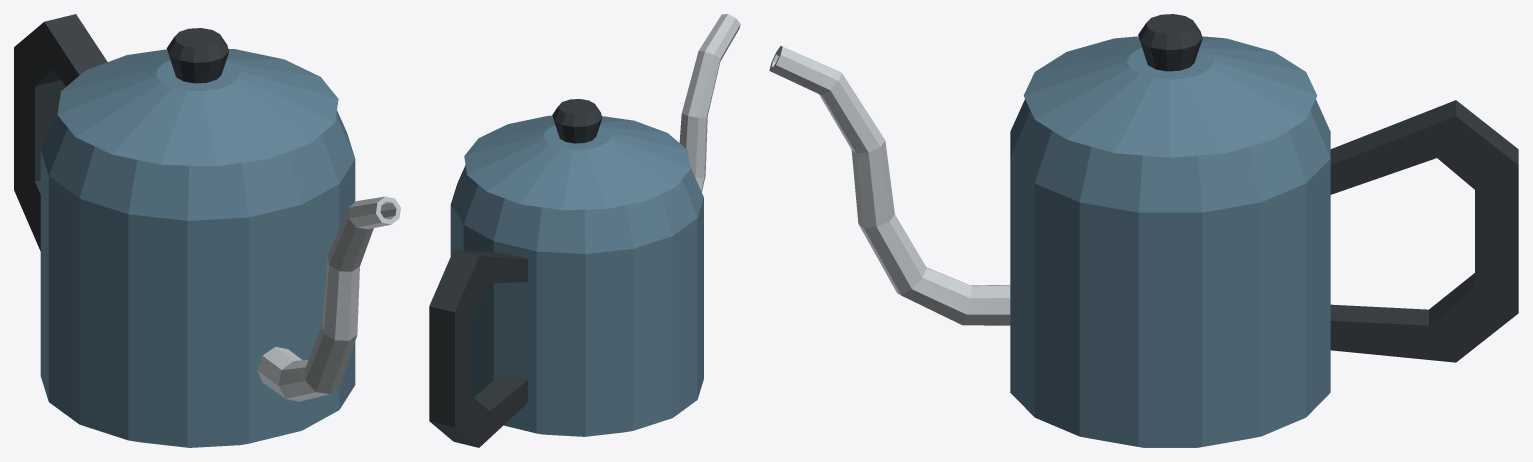
The picture shows the model from 3 angles, left to right: view 1: azimuth 30°, elevation 25°; view 2: azimuth 150°, elevation 25°; view 3: azimuth 270°, elevation 25°; orthographic projection. The views are drawn at different scales.
Visible parts, largest first — view 1: HollowKettleBodyWithTrueSidePort, FixedConicalKettleLid, ContinuousOpenEndedRisingGooseneckSpout, RearOpenCHandleWithTwoFullWallSeats, SmallFacetedLidKnob; view 2: HollowKettleBodyWithTrueSidePort, FixedConicalKettleLid, RearOpenCHandleWithTwoFullWallSeats, ContinuousOpenEndedRisingGooseneckSpout, SmallFacetedLidKnob; view 3: HollowKettleBodyWithTrueSidePort, FixedConicalKettleLid, RearOpenCHandleWithTwoFullWallSeats, ContinuousOpenEndedRisingGooseneckSpout, SmallFacetedLidKnob.
Boxes of the visible parts, bbox=[...] form: HollowKettleBodyWithTrueSidePort: bbox=[40, 110, 355, 447]; FixedConicalKettleLid: bbox=[57, 49, 338, 166]; ContinuousOpenEndedRisingGooseneckSpout: bbox=[257, 196, 400, 401]; RearOpenCHandleWithTwoFullWallSeats: bbox=[14, 14, 107, 250]; SmallFacetedLidKnob: bbox=[167, 28, 229, 83]; HollowKettleBodyWithTrueSidePort: bbox=[450, 165, 703, 436]; FixedConicalKettleLid: bbox=[464, 115, 690, 210]; RearOpenCHandleWithTwoFullWallSeats: bbox=[429, 250, 527, 447]; ContinuousOpenEndedRisingGooseneckSpout: bbox=[679, 14, 740, 191]; SmallFacetedLidKnob: bbox=[552, 99, 602, 143]; HollowKettleBodyWithTrueSidePort: bbox=[1010, 99, 1330, 447]; FixedConicalKettleLid: bbox=[1023, 36, 1317, 157]; RearOpenCHandleWithTwoFullWallSeats: bbox=[1330, 100, 1518, 362]; ContinuousOpenEndedRisingGooseneckSpout: bbox=[769, 46, 1010, 325]; SmallFacetedLidKnob: bbox=[1138, 14, 1202, 71].
Bounding box in the file's own units: 0.1177 × 0.149 × 0.2755.
